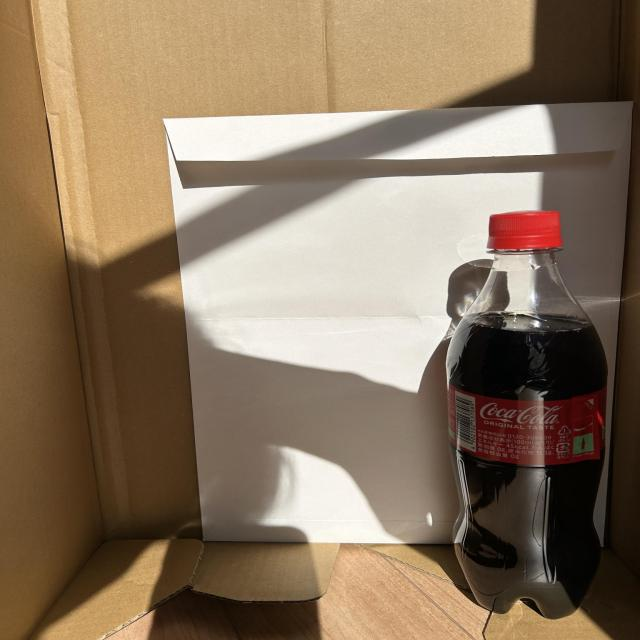high: (446, 211, 608, 618)
